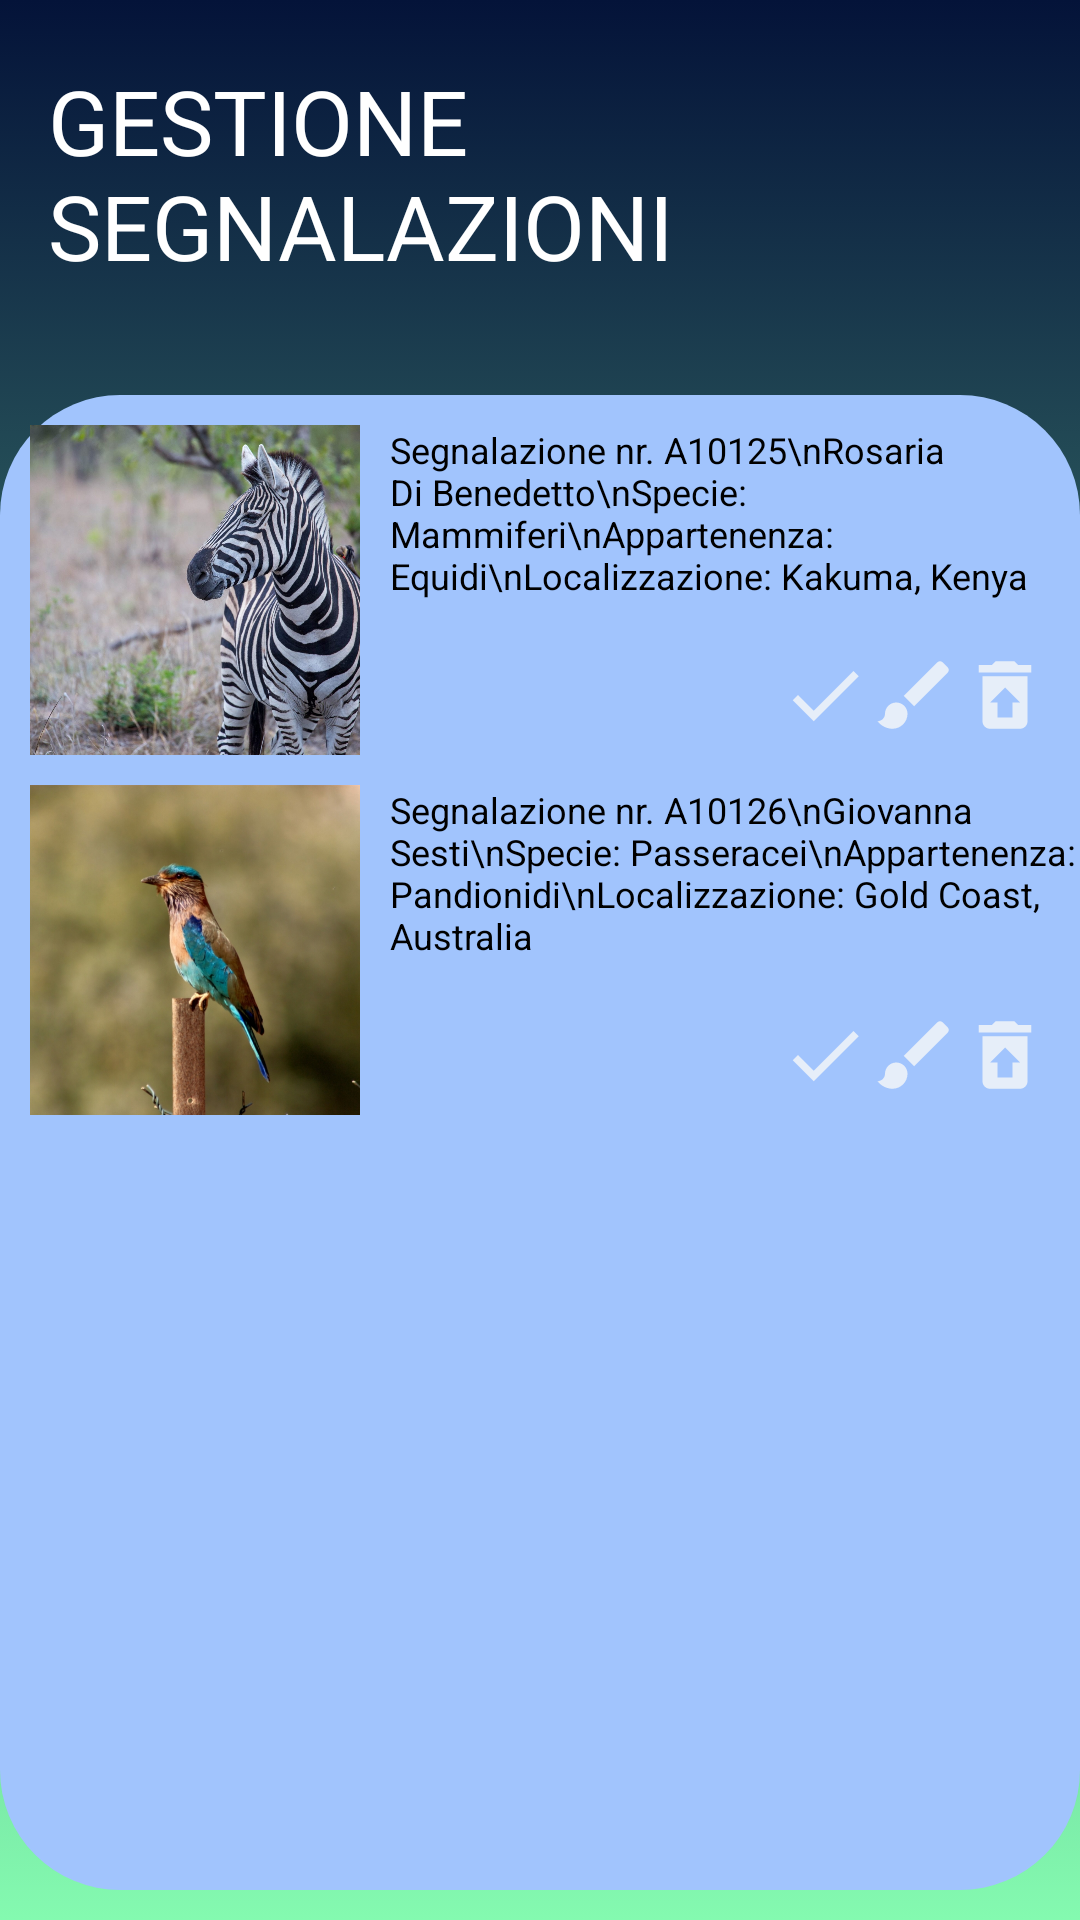

Named icons in this screenshot (1080w x 1920h) and their bounding boxes, (x1, y1, x2, y2):
uccelli: (30, 785, 360, 1115)
zebra: (30, 425, 360, 755)
